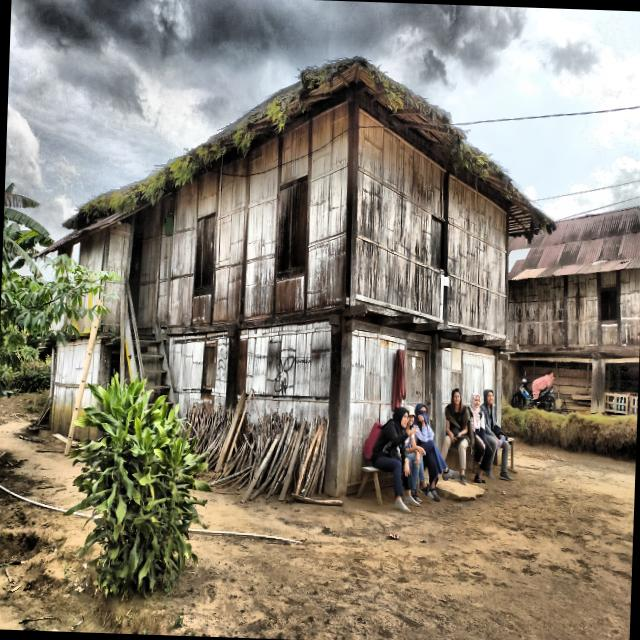column: (324, 314, 356, 497), (430, 333, 442, 455), (224, 327, 240, 418), (590, 362, 605, 412), (98, 340, 112, 391), (494, 350, 501, 428)
roof: (62, 56, 554, 236), (508, 206, 640, 280)
stair: (123, 270, 179, 419)
wall: (137, 101, 347, 326), (354, 106, 506, 337), (237, 319, 330, 430), (508, 268, 640, 345), (347, 329, 405, 483), (168, 332, 229, 418), (441, 347, 494, 445)
window: (276, 179, 308, 273), (194, 215, 215, 290), (430, 214, 442, 269), (600, 290, 616, 319)
